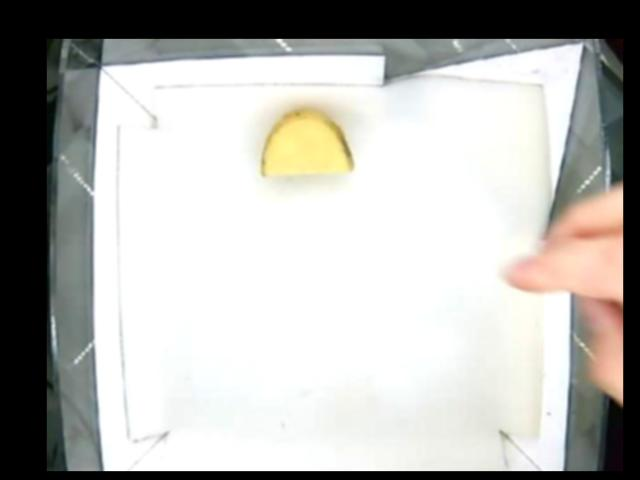Potato: (260, 110, 354, 176)
